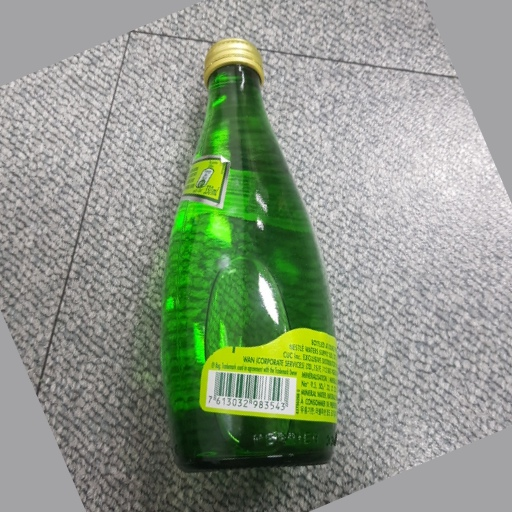Glass_4: (157, 39, 342, 472)
